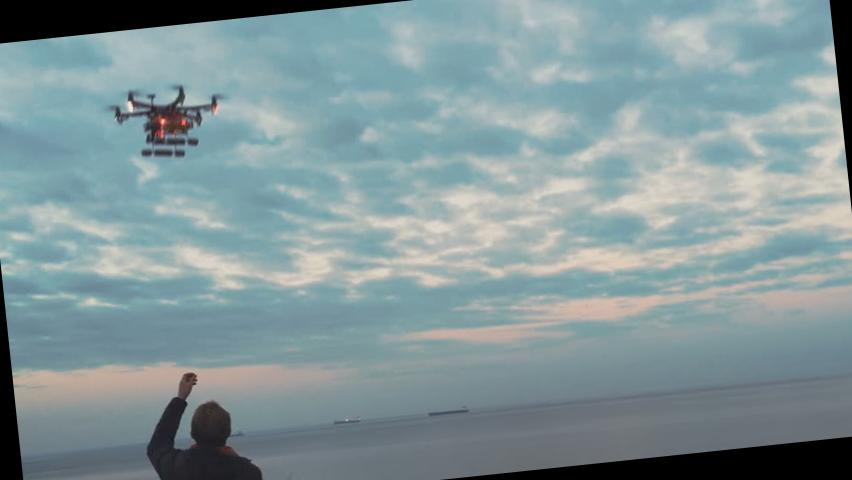drone: (97, 74, 239, 158)
